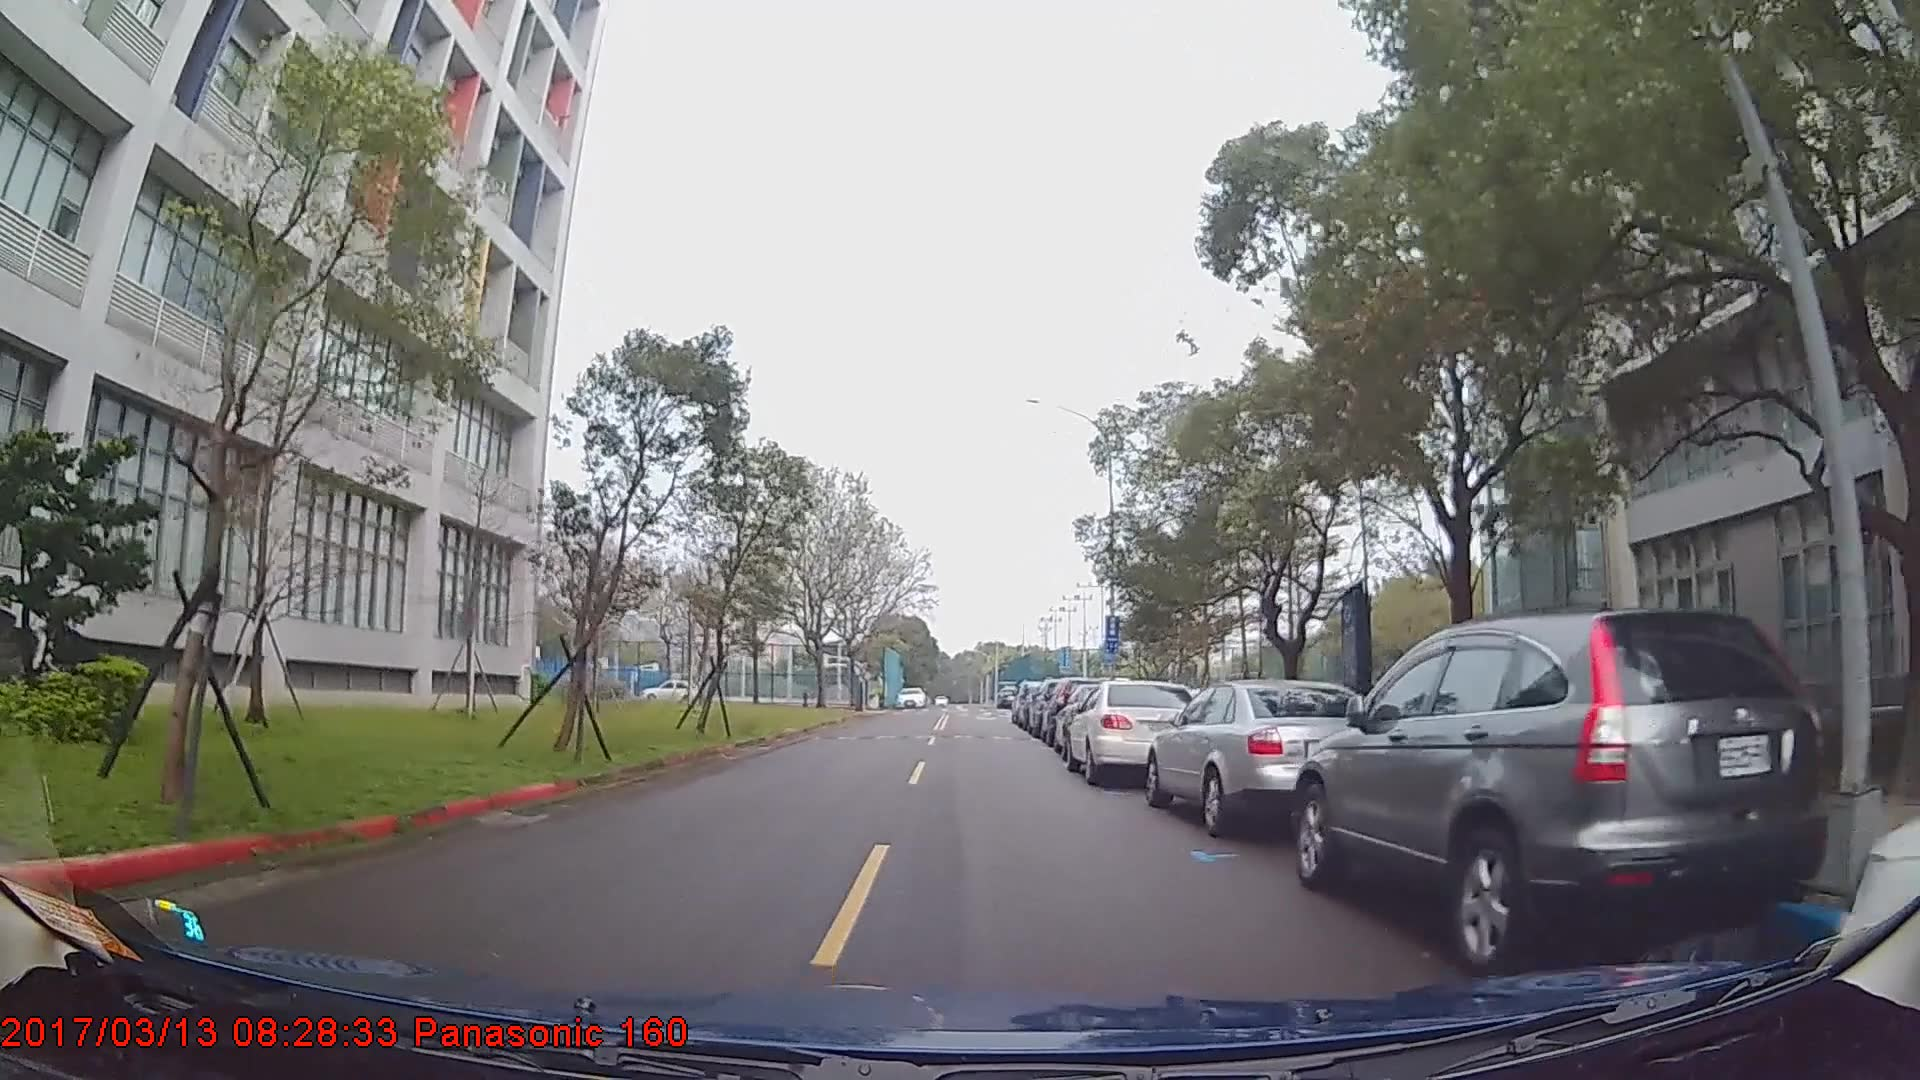vehicle: (1292, 607, 1826, 978), (1142, 679, 1382, 840), (1063, 676, 1208, 786), (642, 674, 699, 702), (894, 687, 926, 709)
